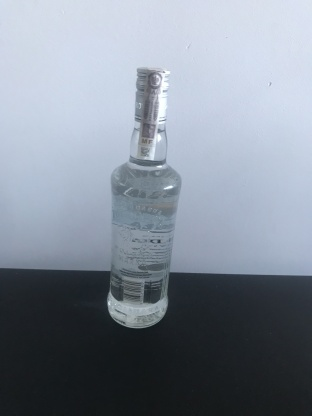nakretka: (132, 63, 172, 125)
